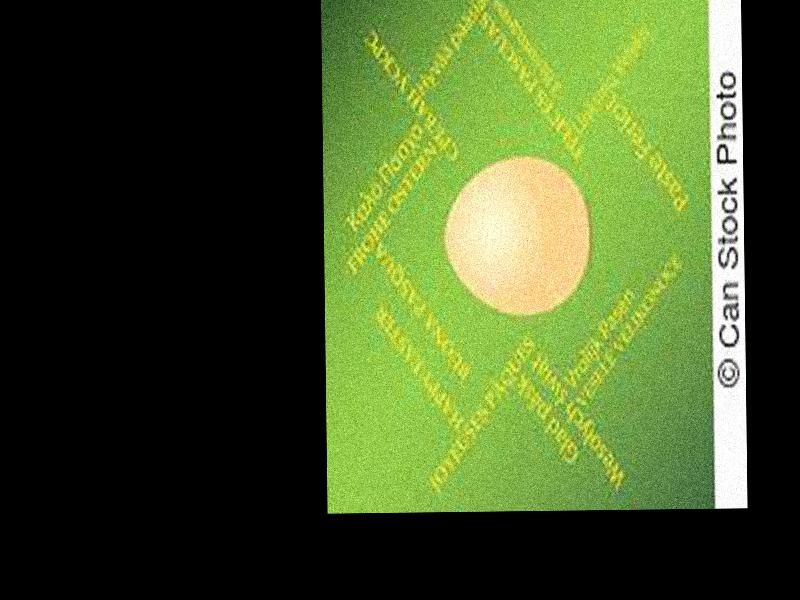Eggs: (444, 158, 590, 315)
